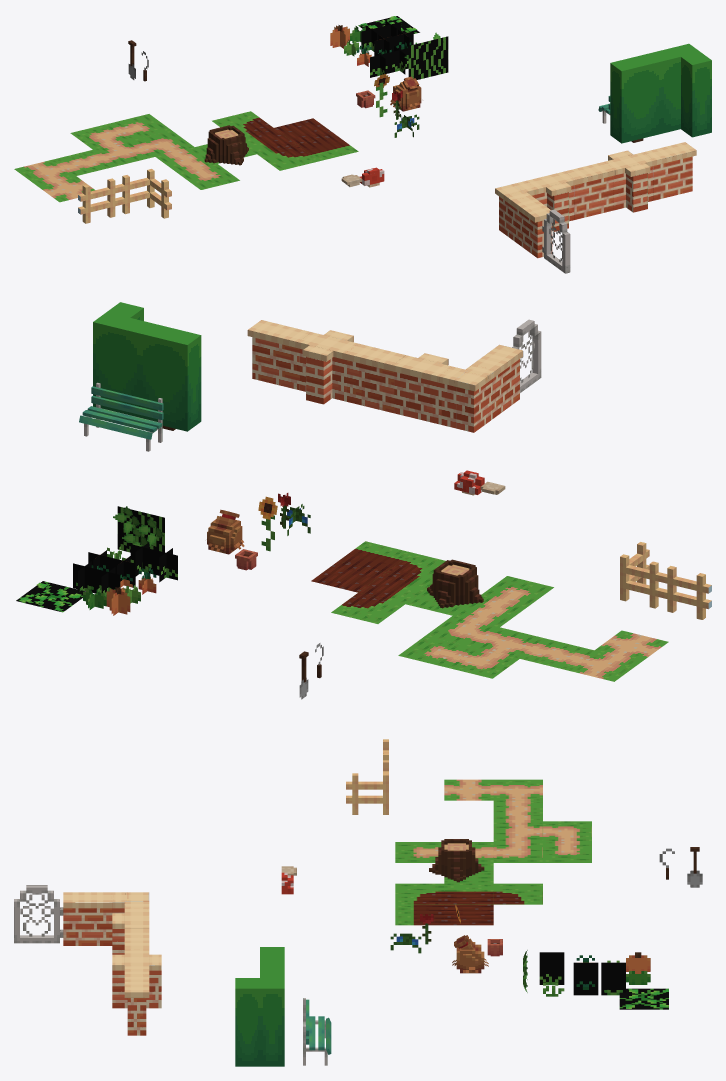
The model's file is Sunflower.fbx.
The picture shows the model from 3 angles, top to bottom: view 1: azimuth 30°, elevation 25°; view 2: azimuth 150°, elevation 25°; view 3: azimuth 270°, elevation 25°; orthographic projection. The views are drawn at different scales.
Visible parts, largest first — view 1: cube_5, cube_7, cube_3, cube_2, cube, cube_6, cube_1, Brick_Wall_TSplit, Creeping_Vines, Fence_Corner, TreeStump, Metal Gate (+17 smaller); view 2: cube_5, cube_6, cube_3, Brick_Wall_Corner, Brick_Wall_TSplit, cube_2, Bench, cube, TreeStump, cube_1, Fence_Corner, Fence_Straight (+19 smaller); view 3: cube_1, cube_6, cube_7, cube_3, Metal Gate, TreeStump, cube_2, Bench, Fence_Corner, Dirt_Soil_Side, Path_X, Dirt_Soil_Corner (+19 smaller).
Part boxes in pixels (left/top/right/bottom): cube_5: left=610, top=53, right=660, bottom=143; cube_7: left=681, top=52, right=711, bottom=137; cube_3: left=604, top=150, right=654, bottom=212; cube_2: left=643, top=142, right=696, bottom=200; cube: left=564, top=162, right=615, bottom=219; cube_6: left=650, top=43, right=699, bottom=133; cube_1: left=512, top=196, right=552, bottom=258; Brick_Wall_TSplit: left=525, top=171, right=575, bottom=231; Creeping_Vines: left=408, top=36, right=448, bottom=79; Fence_Corner: left=118, top=169, right=171, bottom=218; TreeStump: left=204, top=125, right=248, bottom=165; Metal Gate: left=542, top=209, right=570, bottom=273; cube_5: left=140, top=323, right=201, bottom=431; cube_6: left=93, top=312, right=153, bottom=417; cube_3: left=298, top=330, right=358, bottom=404; Brick_Wall_Corner: left=440, top=364, right=495, bottom=432; Brick_Wall_TSplit: left=392, top=353, right=452, bottom=424; cube_2: left=247, top=320, right=311, bottom=390; Bench: left=79, top=382, right=163, bottom=451; cube: left=345, top=343, right=405, bottom=413; TreeStump: left=427, top=559, right=483, bottom=608; cube_1: left=472, top=344, right=522, bottom=418; Fence_Corner: left=620, top=542, right=664, bottom=608; Fence_Straight: left=661, top=566, right=711, bottom=619; cube_1: left=63, top=892, right=112, bottom=945; cube_6: left=260, top=967, right=284, bottom=1066; cube_7: left=235, top=978, right=259, bottom=1066; cube_3: left=112, top=949, right=161, bottom=1008; Metal Gate: left=14, top=885, right=63, bottom=943; TreeStump: left=429, top=839, right=484, bottom=882; cube_2: left=124, top=970, right=149, bottom=1035; Bench: left=303, top=998, right=331, bottom=1065; Fence_Corner: left=346, top=760, right=388, bottom=814; Dirt_Soil_Side: left=444, top=883, right=493, bottom=904; Path_X: left=444, top=779, right=493, bottom=800; Dirt_Soil_Corner: left=395, top=883, right=444, bottom=904.
Bounding box in the file's own units: 1425 × 219 × 1419.
Materials: 52 (52 with a texture image).
